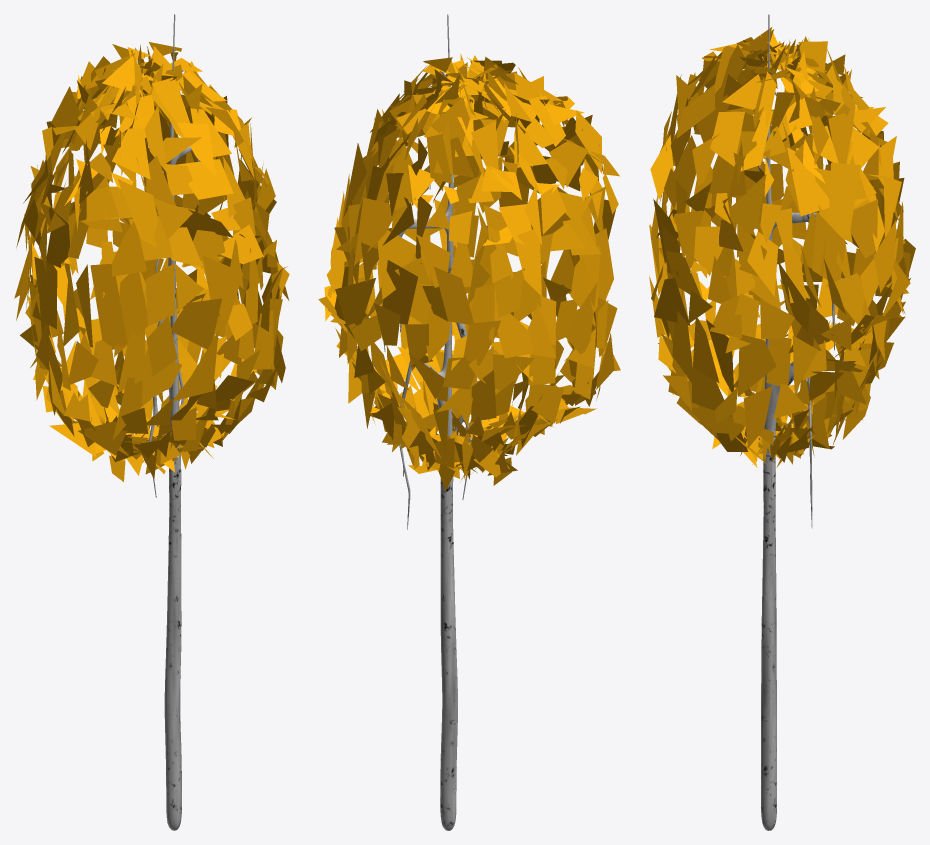
Rendered from Leaves23.002.fbx.
3 views of the same model, side by side, from view 1: azimuth 30°, elevation 25°; view 2: azimuth 150°, elevation 25°; view 3: azimuth 270°, elevation 25° (orthographic).
Visible parts, largest first — view 1: Leaves23.002; view 2: Leaves23.002; view 3: Leaves23.002.
Boxes of the visible parts, box(x1,y1,x2,y2) form: Leaves23.002: box(14, 14, 289, 830); Leaves23.002: box(318, 14, 620, 830); Leaves23.002: box(649, 14, 915, 830).
Bounding box in the file's own units: 816 × 2574 × 762.
2 materials, 1 textured.
